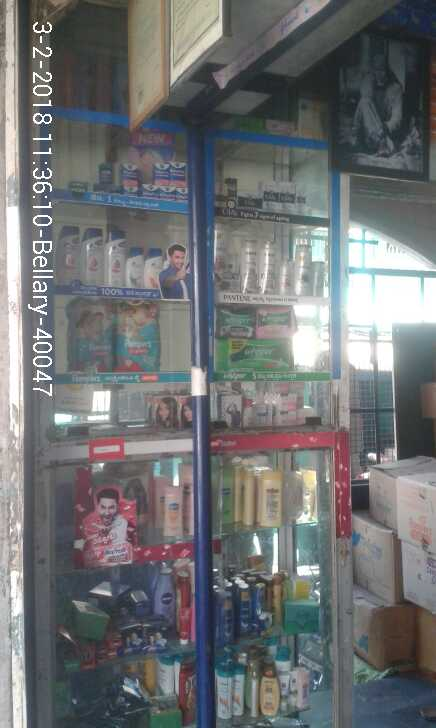beauty: (55, 224, 81, 284), (80, 224, 105, 285), (104, 227, 125, 286), (294, 244, 313, 297), (260, 239, 277, 295), (124, 246, 145, 291), (242, 237, 258, 294), (143, 248, 163, 291), (279, 257, 294, 297), (313, 259, 323, 295)
pharmacy: (115, 295, 163, 375), (70, 293, 118, 372), (218, 338, 294, 369), (212, 304, 255, 341), (253, 306, 297, 338), (150, 164, 171, 188), (121, 162, 139, 189), (171, 161, 186, 188), (99, 163, 113, 182)
